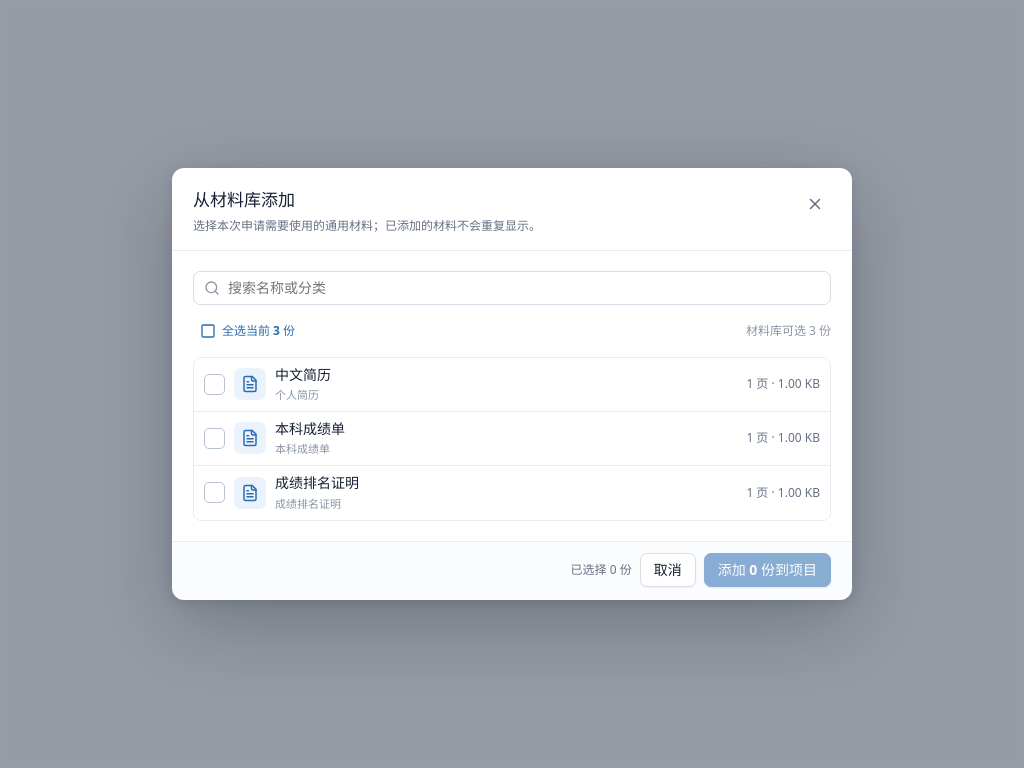
Scenario: MaterialPickerModal › selects only the current search results and keeps earlier selections
Type "成绩" into the field with placeholder "搜索名称或分类" at (524, 288), box [228,272,820,304]
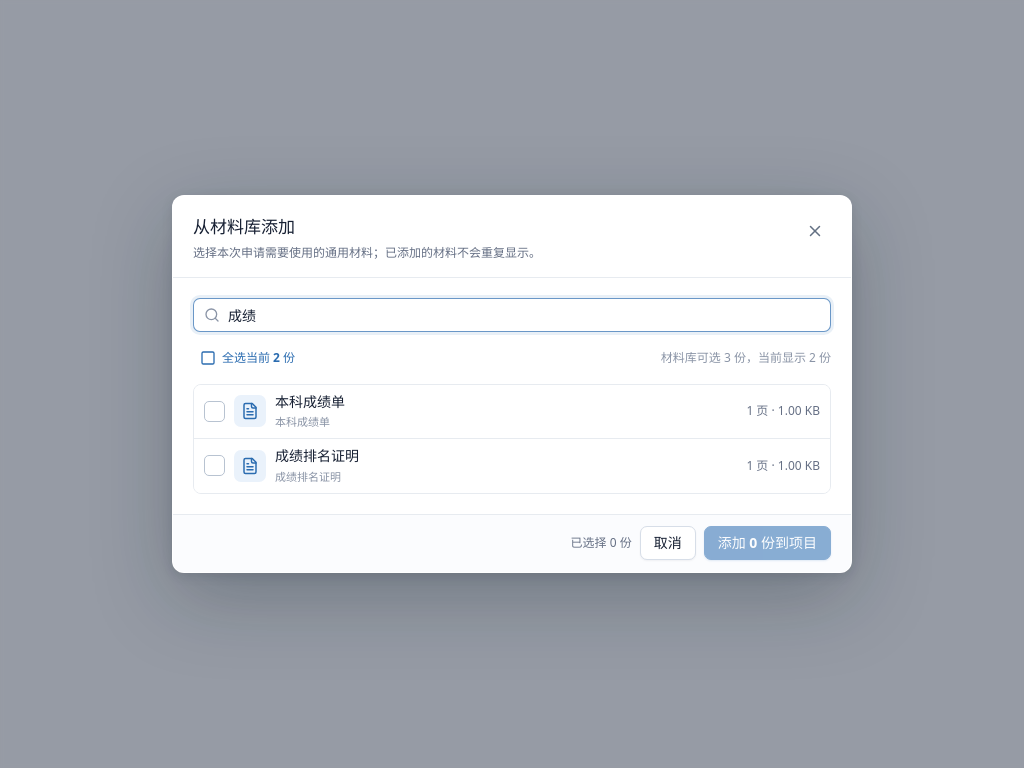
Click the button "全选当前 2 份" at (248, 358), box [193,344,302,371]
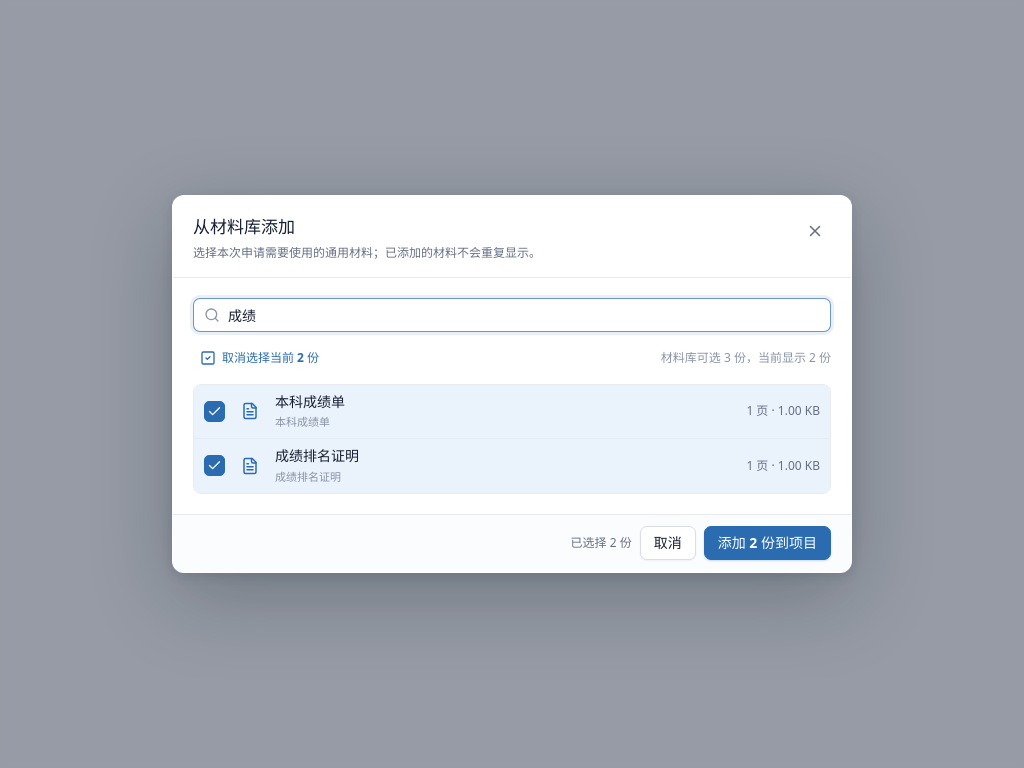
Replace the text in the field with placeholder "搜索名称或分类" with "简历" at (524, 314), box [228,298,820,330]
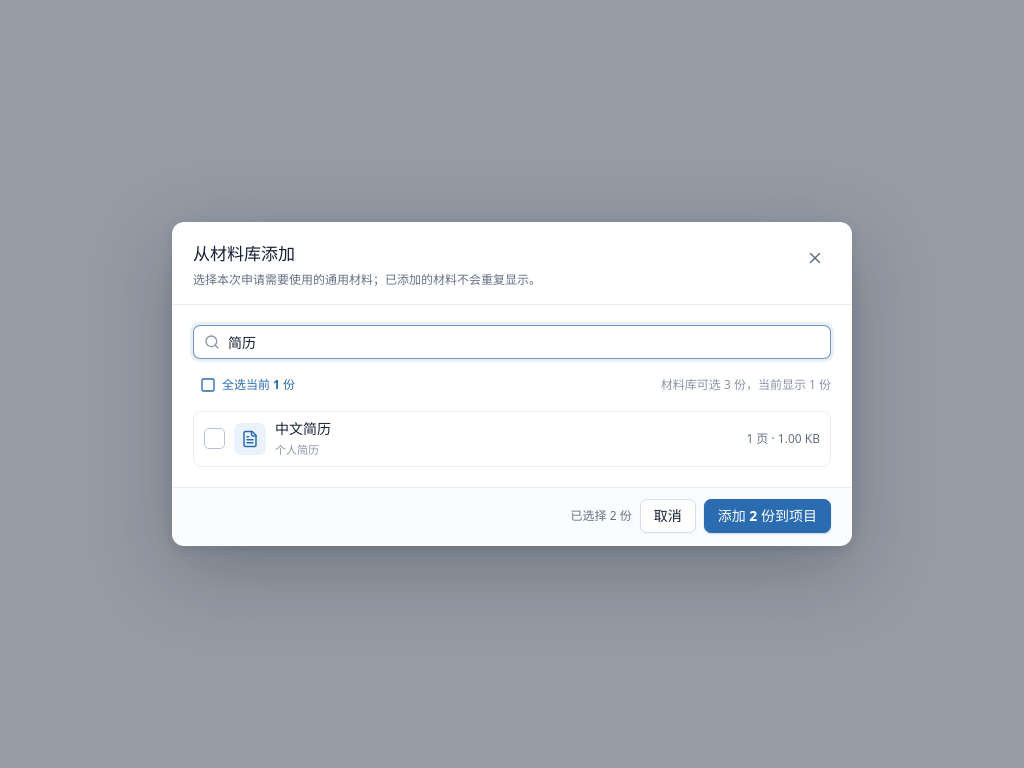
Click the button "全选当前 1 份" at (248, 384), box [193,371,302,398]
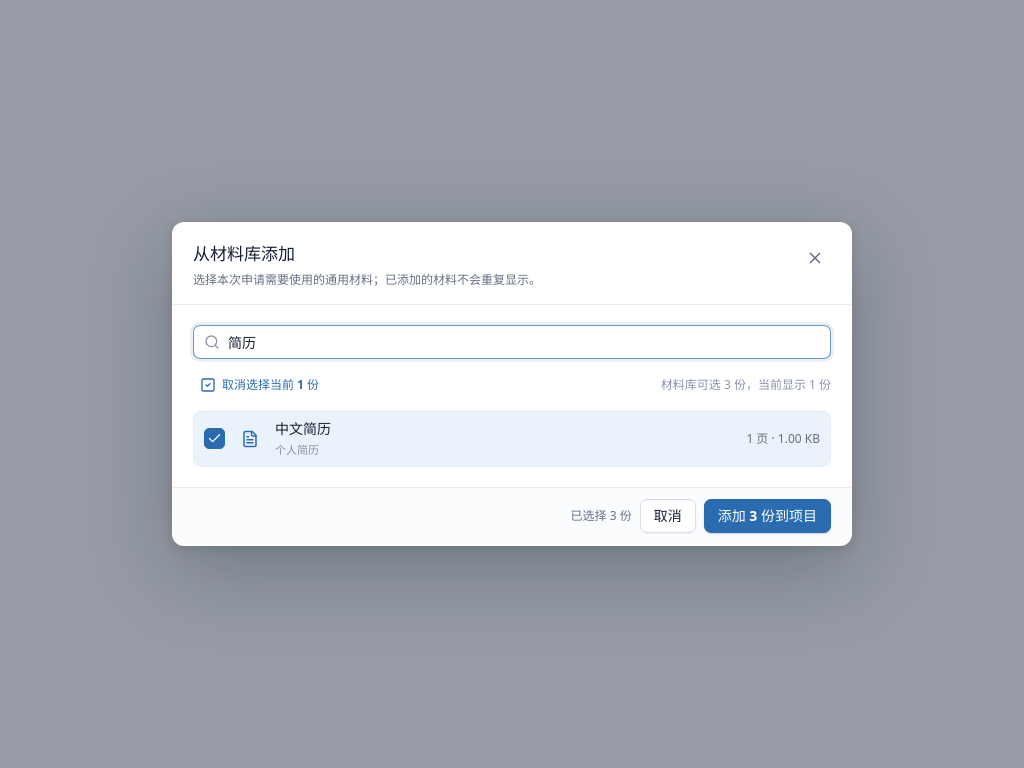
Result: the text "已选择 3 份" is shown at [571,507,632,525]
